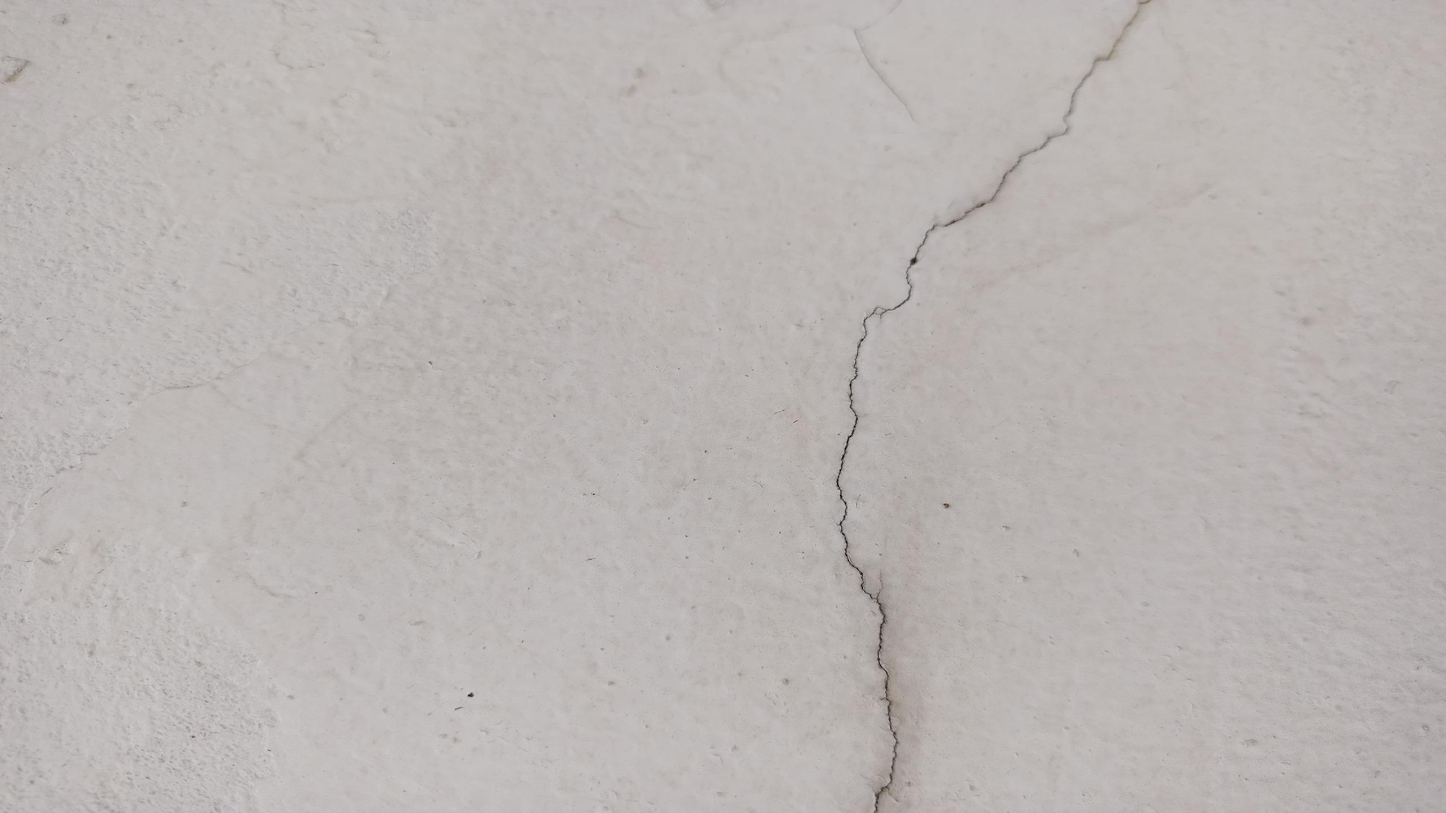crack: (835, 1, 1155, 812)
